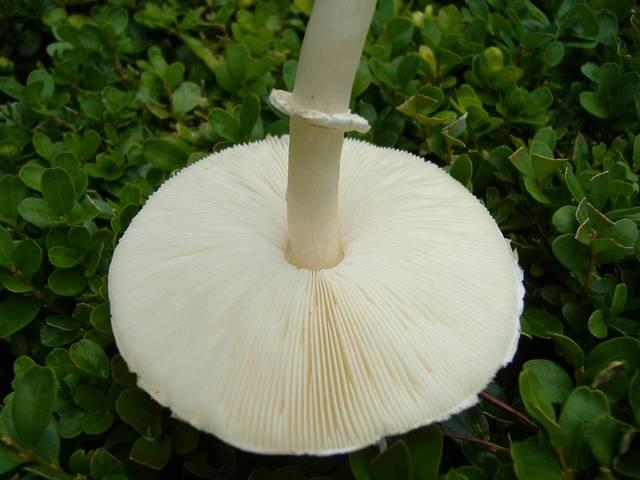poisonous_mushroom: (105, 0, 527, 457)
